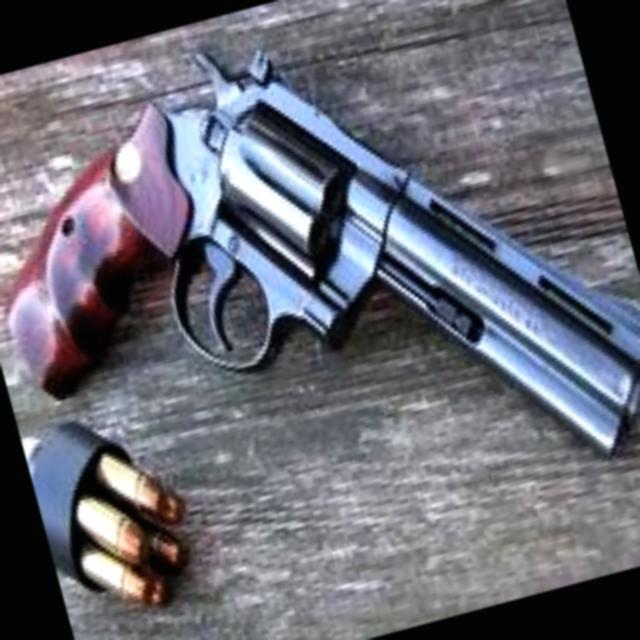revolver: (0, 0, 640, 628)
